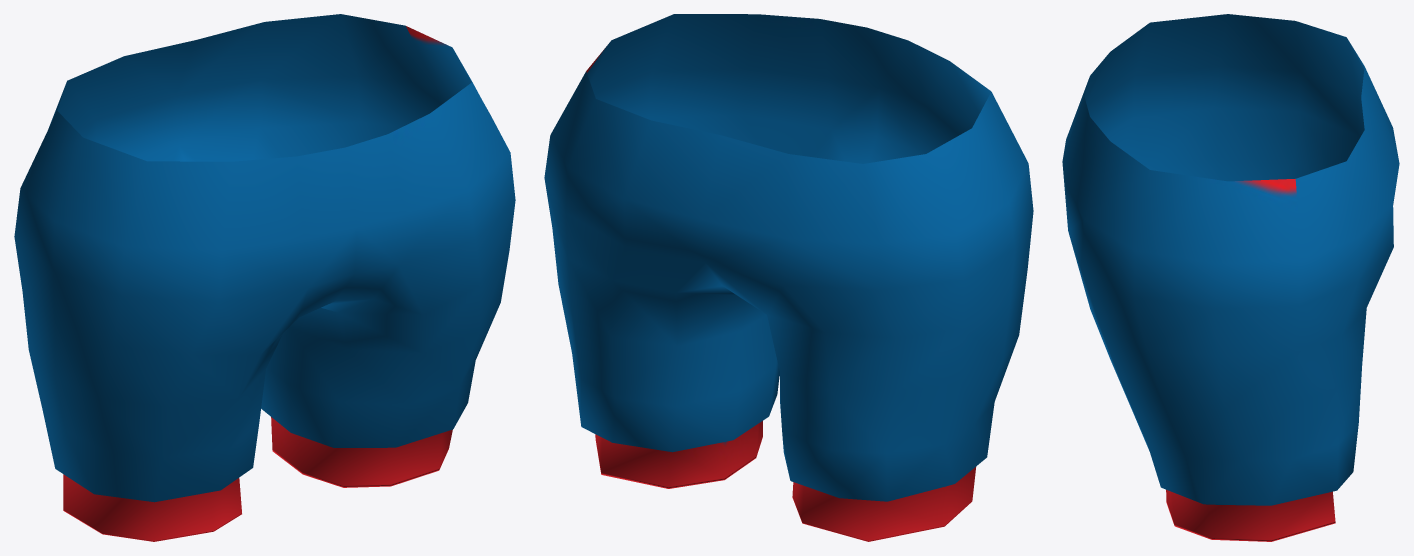
File: AF_M_Trousers_11.fbx
3 views of the same model, side by side, from view 1: azimuth 30°, elevation 25°; view 2: azimuth 150°, elevation 25°; view 3: azimuth 270°, elevation 25° (orthographic). The views are drawn at different scales.
Parts seen in each view (by area): view 1: AF_M_Trousers_11; view 2: AF_M_Trousers_11; view 3: AF_M_Trousers_11.
Boxes of the visible parts, bbox=[...] form: AF_M_Trousers_11: bbox=[14, 14, 515, 541]; AF_M_Trousers_11: bbox=[544, 14, 1033, 541]; AF_M_Trousers_11: bbox=[1062, 14, 1399, 541].
Bounding box in the file's own units: 381 × 323 × 270.
